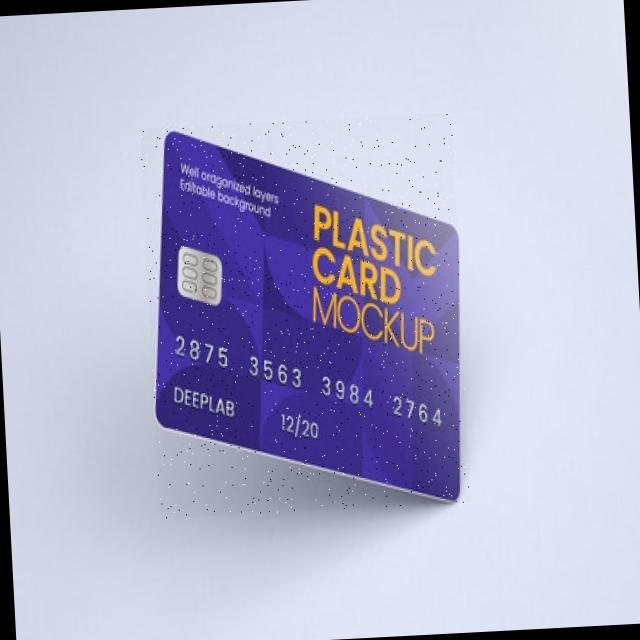payment_card: (153, 128, 462, 504)
